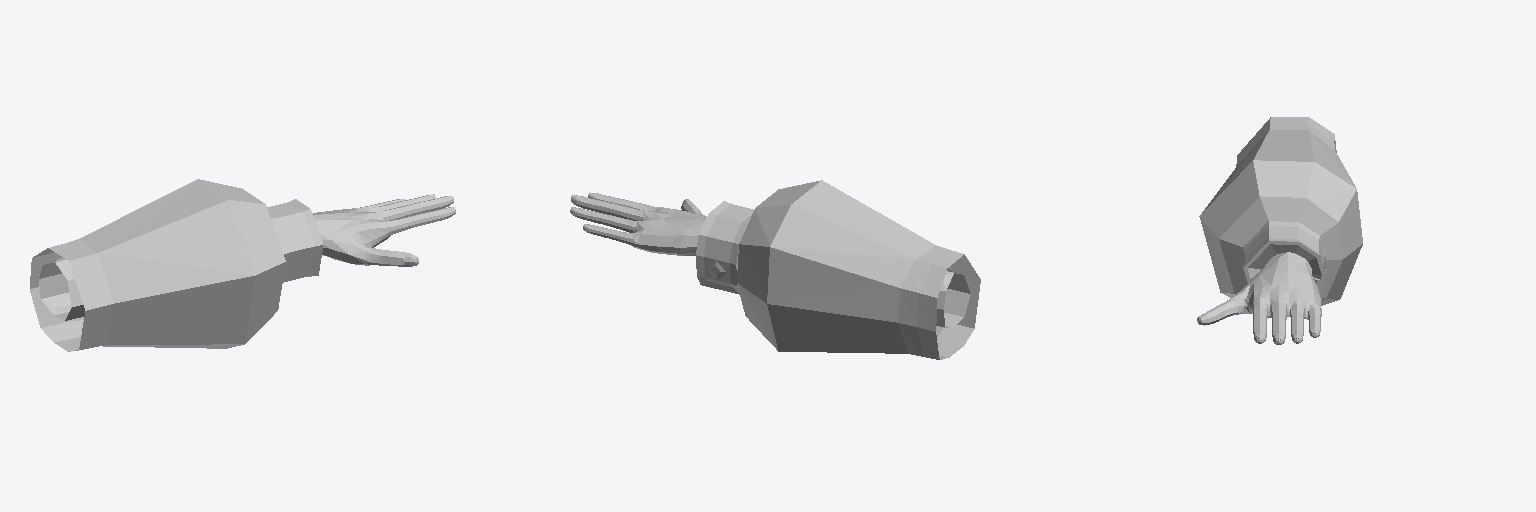
File: KOSHIRO_Brazo_1.obj
3 views of the same model, side by side, from view 1: azimuth 30°, elevation 25°; view 2: azimuth 150°, elevation 25°; view 3: azimuth 270°, elevation 25° (orthographic).
Visible parts, largest first — view 1: Brazo_1_face_Plane.001; view 2: Brazo_1_face_Plane.001; view 3: Brazo_1_face_Plane.001.
Part boxes in pixels (x1,y1,x2,y2): Brazo_1_face_Plane.001: (30,179,455,351); Brazo_1_face_Plane.001: (570,180,980,359); Brazo_1_face_Plane.001: (1197,117,1362,344).
Bounding box in the file's own units: 0.3601 × 0.1324 × 0.1316.